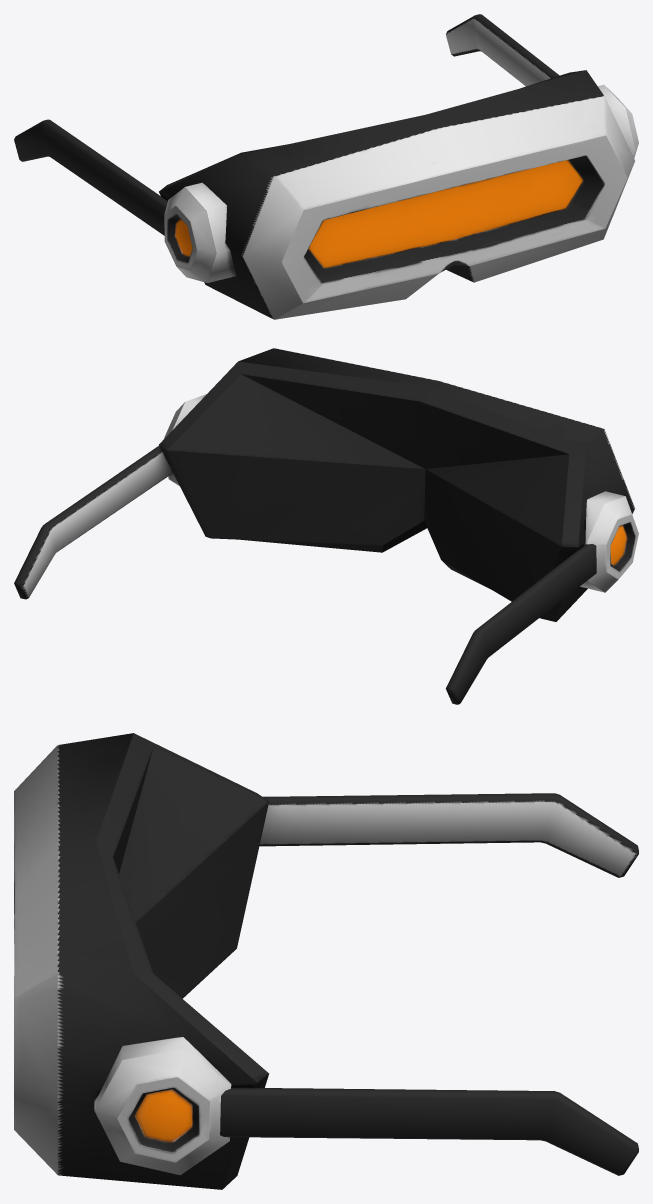
The model's file is Eyewear_razorblade_goggles.glb.
The picture shows the model from 3 angles, top to bottom: view 1: azimuth 30°, elevation 25°; view 2: azimuth 150°, elevation 25°; view 3: azimuth 270°, elevation 25°; orthographic projection. The views are drawn at different scales.
Parts seen in each view (by area): view 1: Eyewear_razorblade_goggles; view 2: Eyewear_razorblade_goggles; view 3: Eyewear_razorblade_goggles.
Boxes of the visible parts, left/top/right/bottom form: Eyewear_razorblade_goggles: left=14, top=14, right=638, bottom=319; Eyewear_razorblade_goggles: left=14, top=348, right=638, bottom=704; Eyewear_razorblade_goggles: left=14, top=733, right=638, bottom=1189.
Size of what is drawn, in the model's own units: 0.9596 by 0.3472 by 0.8288.
Materials: 1 (1 with a texture image).
